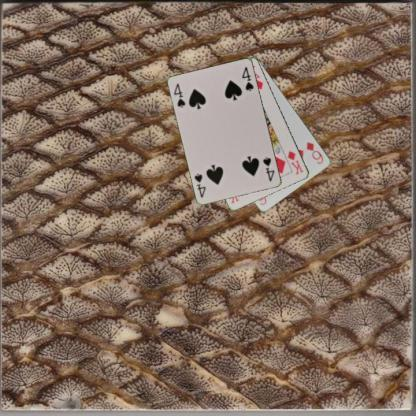4s: (171, 80, 187, 110), (260, 154, 276, 183)
6d: (304, 139, 325, 165)
Kd: (284, 148, 304, 176)
